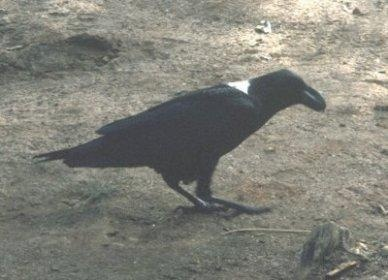bird: (28, 66, 326, 216)
